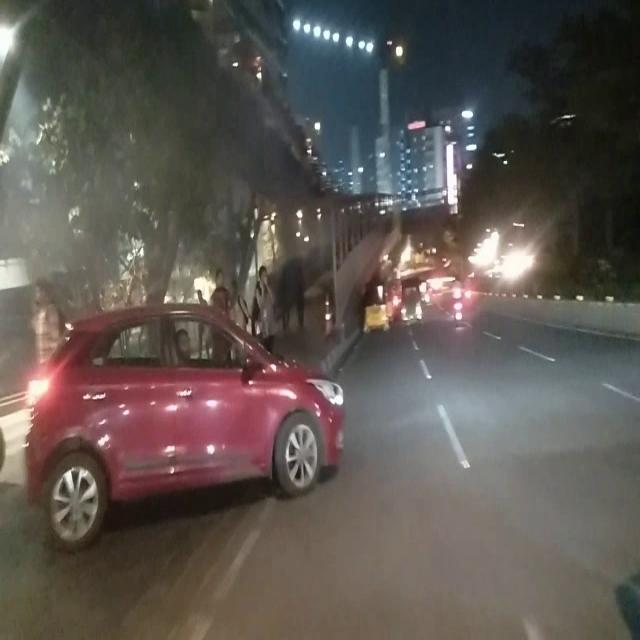auto: (361, 274, 391, 336), (399, 275, 424, 333)
car: (16, 295, 347, 553)
person: (252, 266, 274, 346)
road: (170, 476, 640, 640), (325, 338, 640, 476)
sidewalk: (0, 557, 172, 640)
